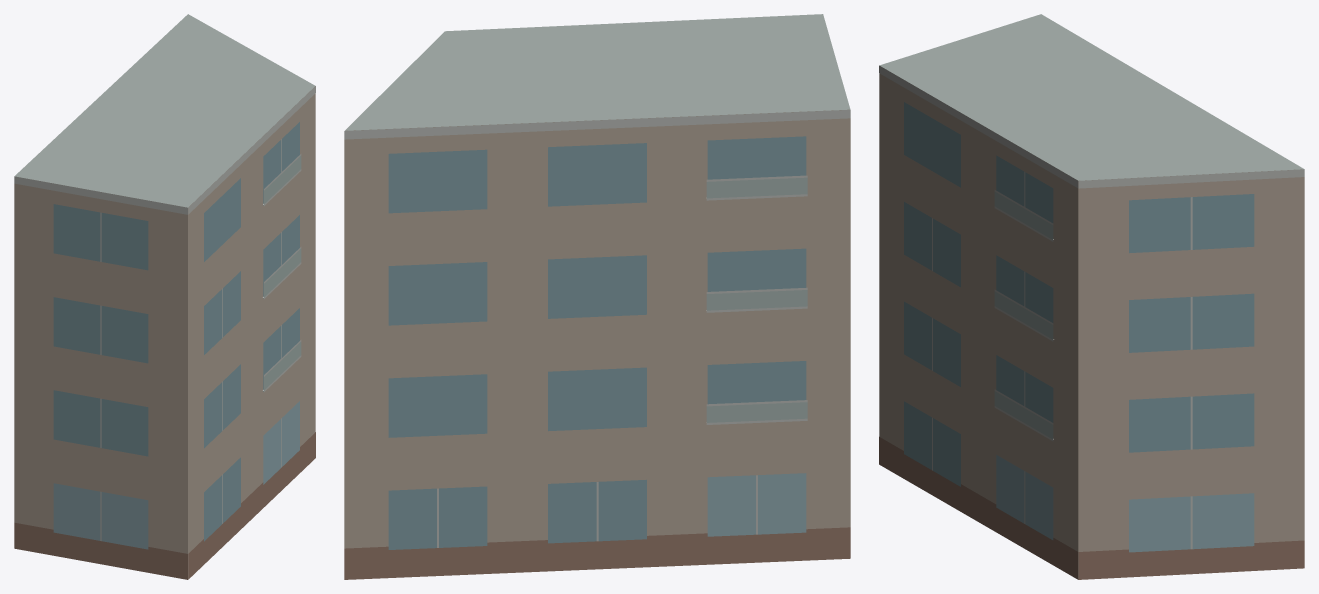
The model's file is survey-upis-32714565.glb.
3 renders of one model, left to right at view 1: azimuth 30°, elevation 25°; view 2: azimuth 150°, elevation 25°; view 3: azimuth 270°, elevation 25°, orthographic. The views are drawn at different scales.
Parts seen in each view (by area): view 1: survey-upis-32714565.tmp; view 2: survey-upis-32714565.tmp; view 3: survey-upis-32714565.tmp.
Boxes of the visible parts, <box> form: survey-upis-32714565.tmp: <box>14,14,315,579</box>; survey-upis-32714565.tmp: <box>344,14,850,579</box>; survey-upis-32714565.tmp: <box>879,14,1304,579</box>.
Size of the model in its own units: 11.26 by 12.55 by 12.13.
